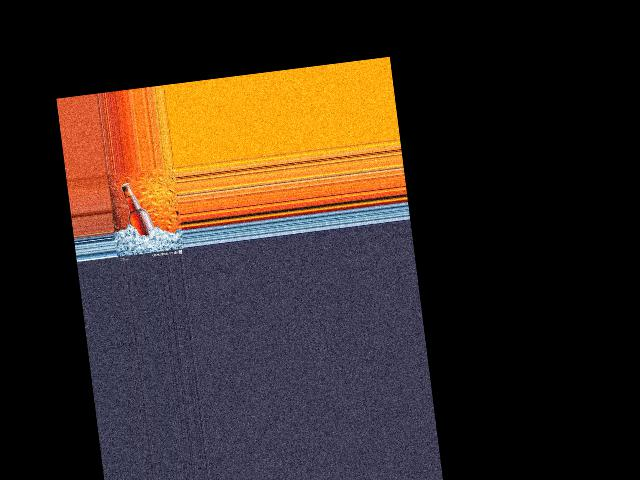beer: (118, 180, 154, 239)
